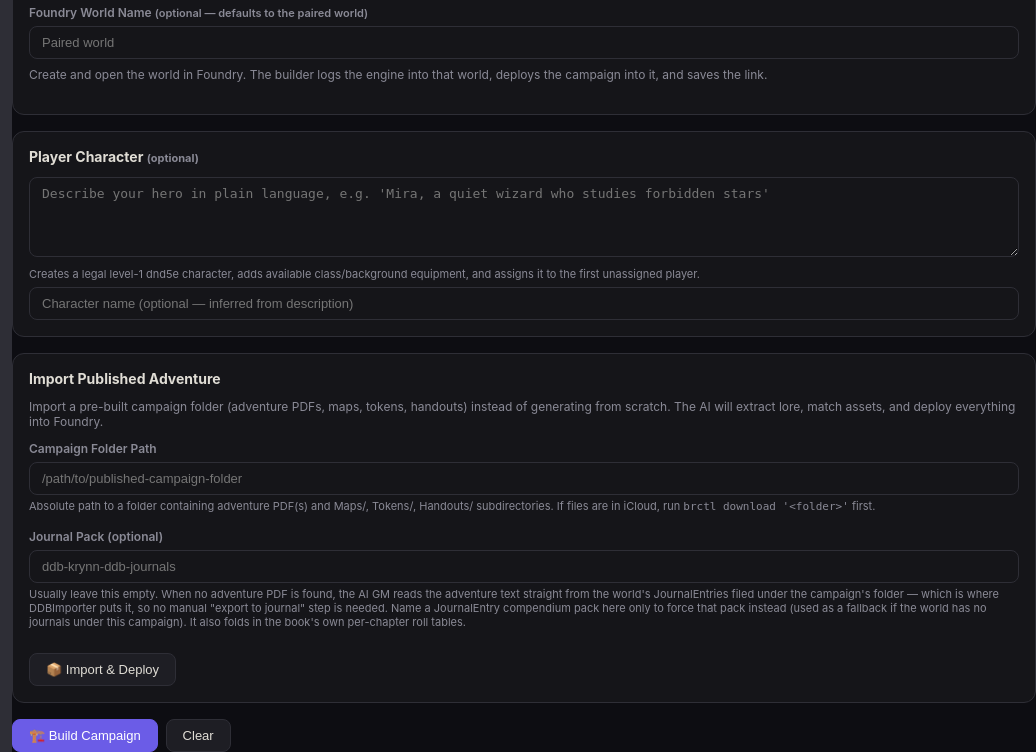
it: CampaignBuilder › refuses to build without a campaign name, and says why
(page scrolled)
Click the button "🏗️ Build Campaign" at (85, 736), box left=12, top=719, right=158, bottom=751
(page scrolled)
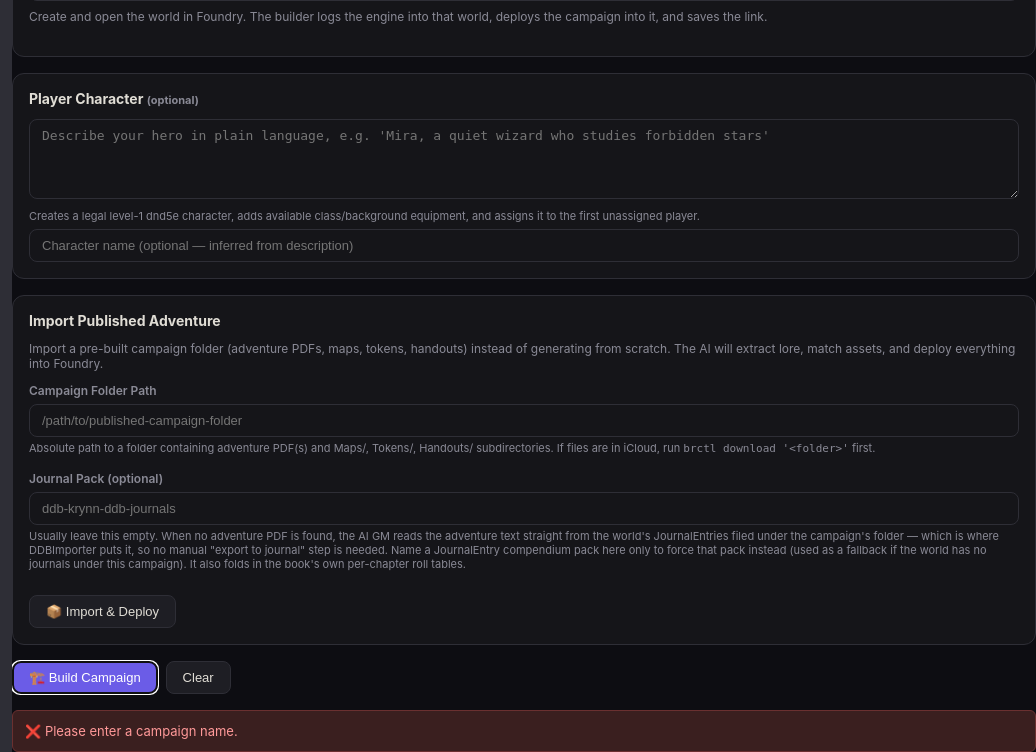
Check: the text "❌ Please enter a campaign name." is shown, box left=25, top=723, right=238, bottom=739
